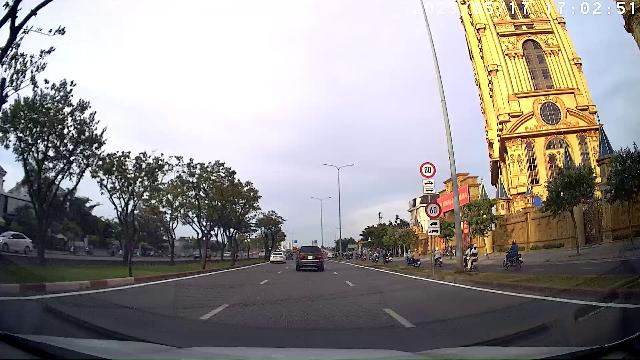127-toc-do-toi-da-60: (425, 201, 442, 219)
127-toc-do-toi-da-80: (419, 162, 436, 178)
